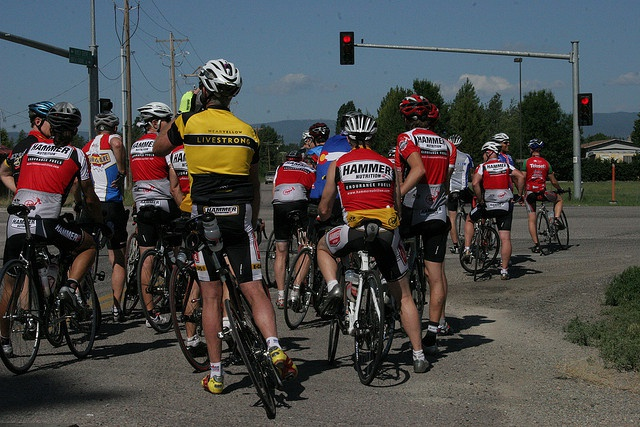non-vehicle: (0, 201, 104, 375), (198, 213, 283, 419), (324, 219, 396, 382), (169, 210, 208, 371), (135, 225, 186, 332), (282, 243, 328, 328), (536, 186, 572, 255), (459, 221, 500, 280), (401, 234, 426, 329), (122, 232, 139, 315), (454, 199, 468, 246), (266, 229, 276, 286)
